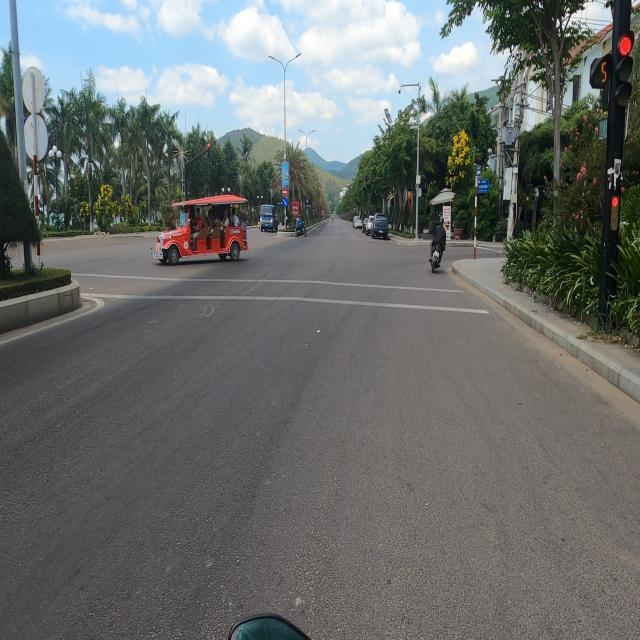walk-crossing: (92, 265, 496, 316)
